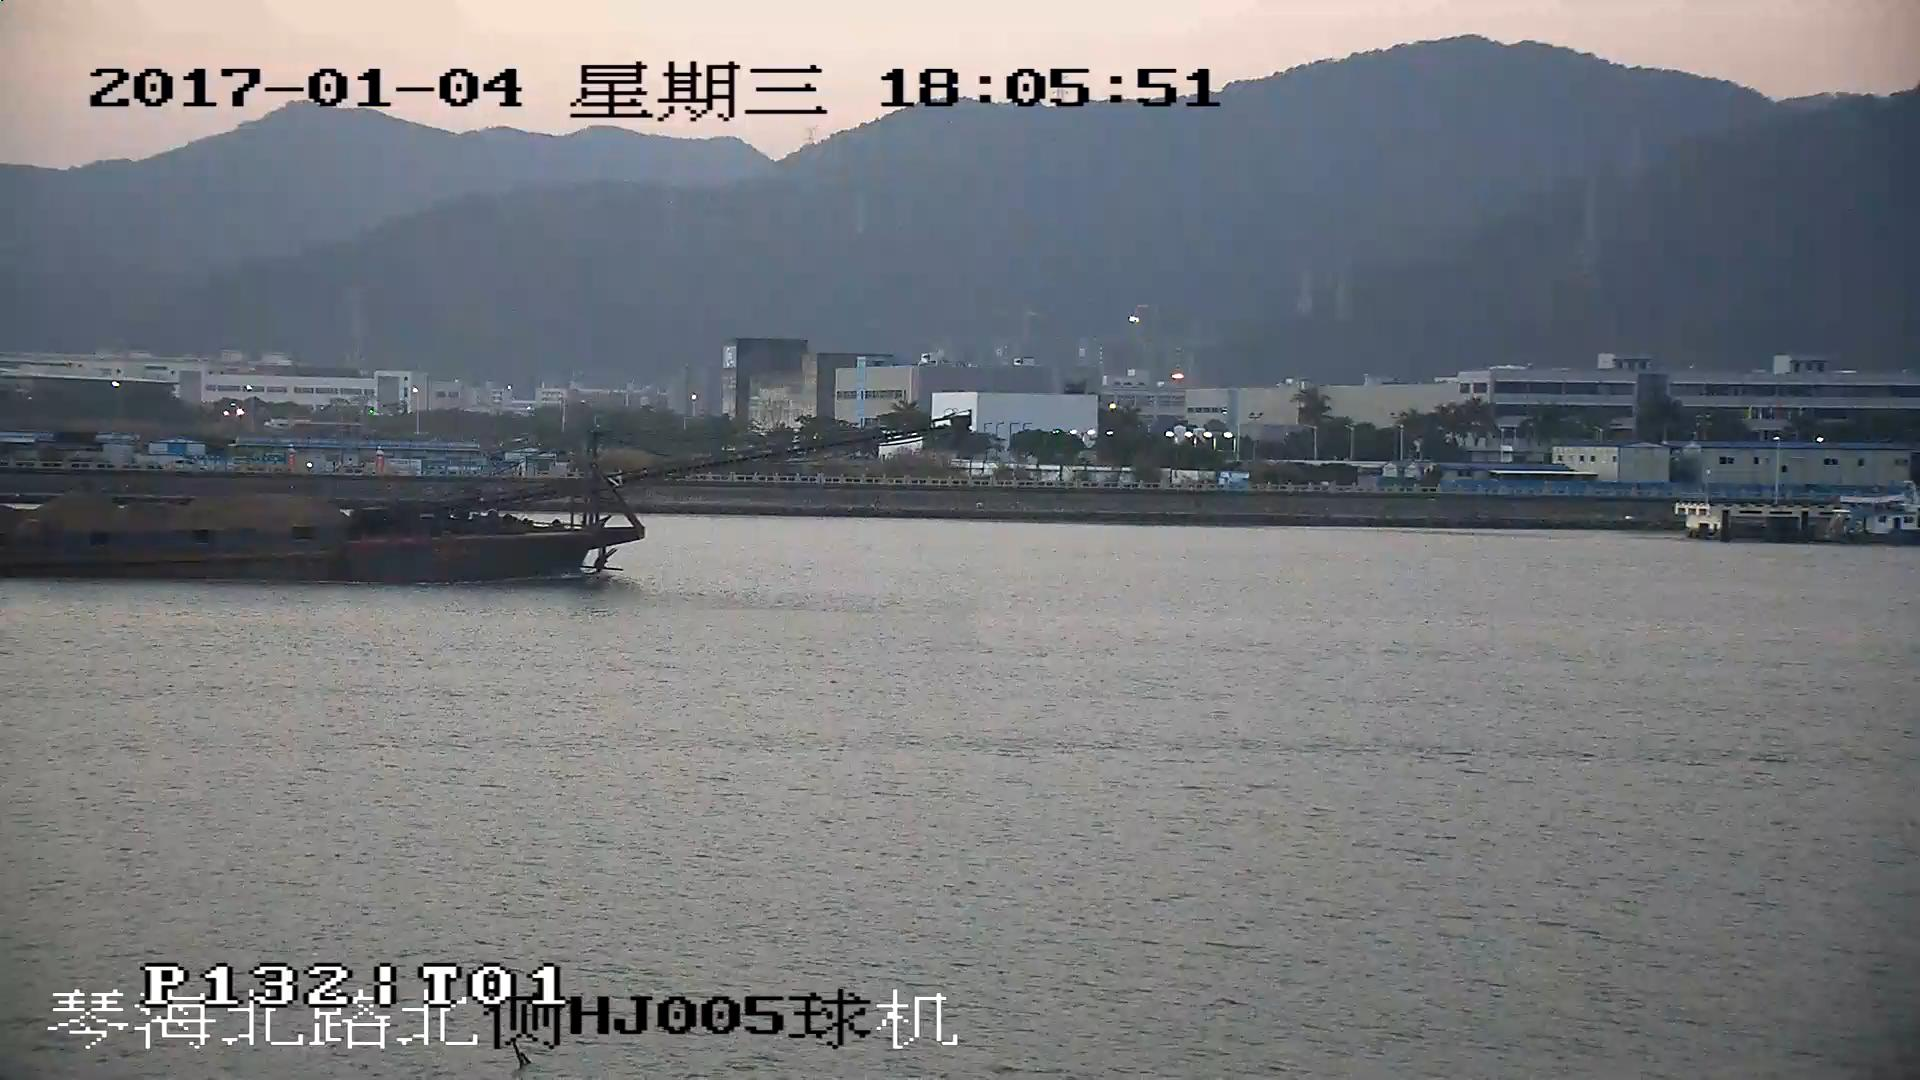ore carrier: (1, 428, 901, 587)
